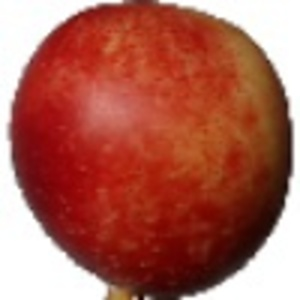nectarina: (6, 1, 295, 300)
